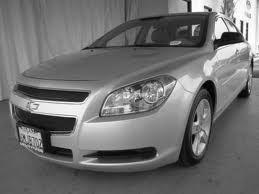car: (10, 12, 256, 175)
